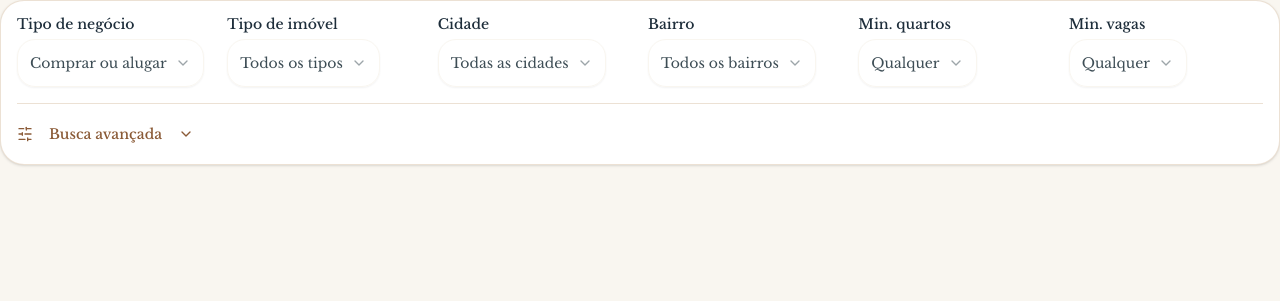
PropertyFilters › mantem busca avancada como controle discreto e remove quartos do avancado
Click the button with aria-label "Abrir busca avançada" at {"x": 106, "y": 134}, box x1=17 y1=120 x2=194 y2=148
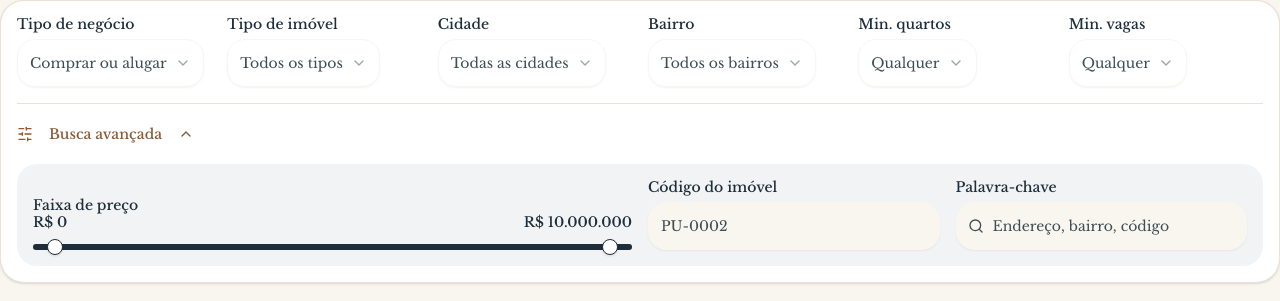
Expected: the field labelled "Código do imóvel" is shown, x1=648 y1=202 x2=940 y2=250
Expected: the field labelled "Palavra-chave" is shown, x1=956 y1=202 x2=1247 y2=250
Expected: the slider named "Preço mínimo" is shown, x1=47 y1=239 x2=63 y2=255
